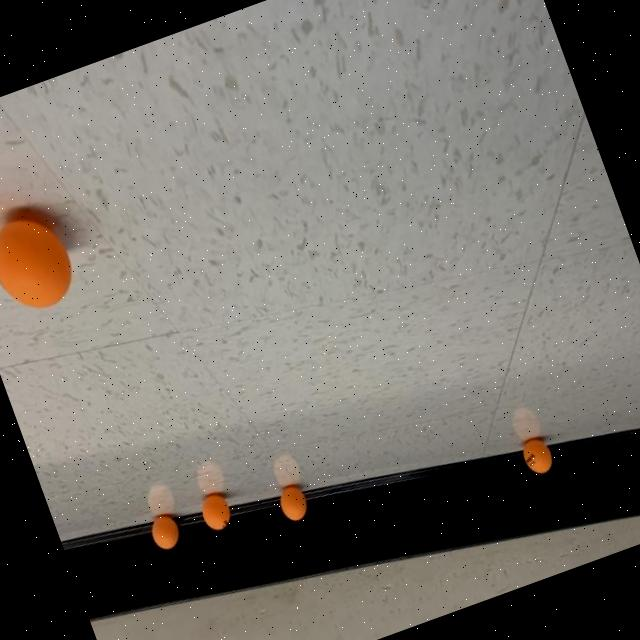ping-pong-ball: (0, 199, 88, 327), (194, 489, 236, 535), (516, 434, 556, 479), (145, 510, 184, 555), (273, 482, 312, 526)
